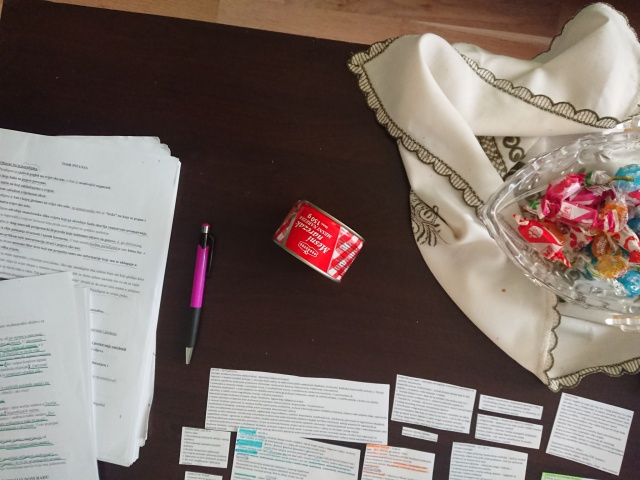Podravka Luncheon Meat 150g: (270, 196, 369, 286)
